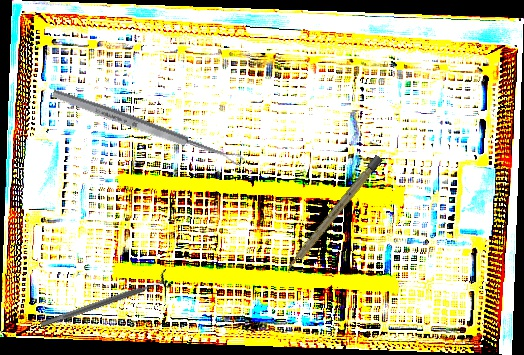Fixation Ring: (37, 268, 173, 335)
Scalpel Handle: (283, 154, 384, 275)
Surgical Spoon: (50, 87, 245, 168)
